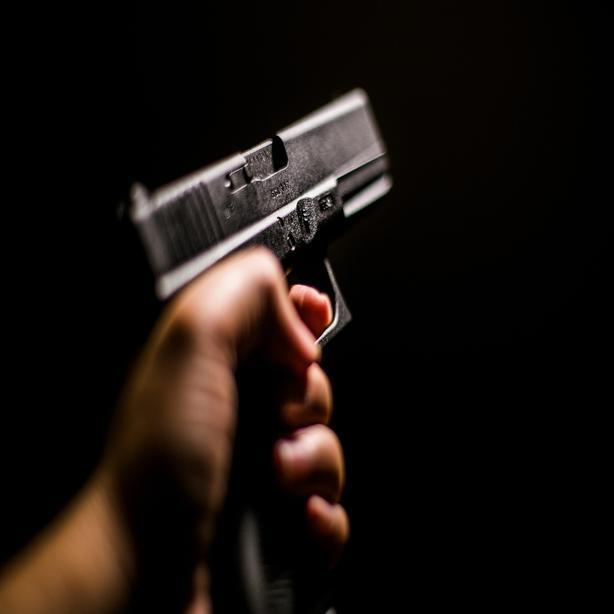Firearm: (86, 55, 457, 614)
